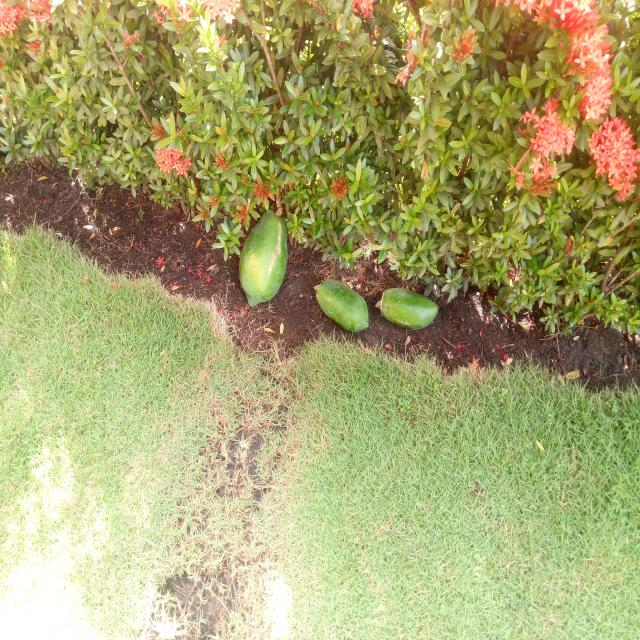Pepaya unrippen: (232, 212, 297, 308), (376, 277, 445, 330), (315, 276, 373, 336)
